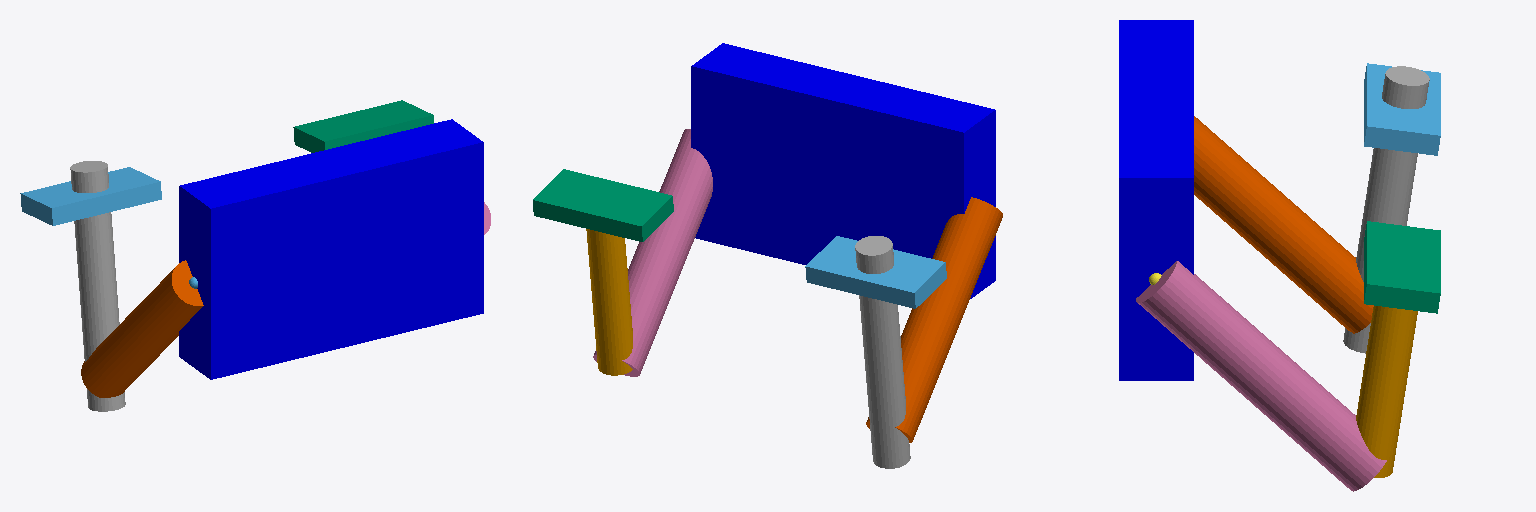
URDF robot description (pair_of_arms):
<?xml version="1.0"?>

<robot name="pair_of_arms">

    <link name="base_link">
    <inertial>
        <origin xyz="0 0 0" rpy="0 0 0"/>
        <mass value="10.0"/>
        <inertia ixx="1" iyy="1" izz="1" ixy="0" ixz="0" iyz="0"/>
    </inertial>
    <visual>
        <origin xyz="0 0 0" rpy="0 0 0"/>
        <geometry>
        <box size="0.5 0.1 0.3"/>
        </geometry>
        <material name="blue">
        <color rgba="0 0 1 1"/>
        </material>
    </visual>
    <collision>
        <origin xyz="0 0 0" rpy="0 0 0"/>
        <geometry>
        <box size="0.5 0.1 0.3"/>
        </geometry>
    </collision>
    </link>



<!-- shoulder 0-mass links to turn 3 revolute into a spherical -->
    <link name="left_shoulder_pitch_link">
        <inertial>
            <origin xyz="0 0 0" rpy="0 0 0"/>
            <mass value="0.001"/>
            <inertia ixx="0.0001" iyy="0.0001" izz="0.0001" ixy="0" ixz="0" iyz="0"/>
        </inertial>
        <visual>
            <origin xyz="0 0 0" rpy="0 0 0"/>
            <geometry>
                <sphere radius="0.01"/>
            </geometry>
        </visual>
        <collision>
            <origin xyz="0 0 0" rpy="0 0 0"/>
            <geometry>
                <sphere radius="0.01"/>
            </geometry>
        </collision>
    </link>

    <!-- Left Shoulder Roll Link -->
    <link name="left_shoulder_roll_link">
        <inertial>
            <origin xyz="0 0 0" rpy="0 0 0"/>
            <mass value="0.001"/>
            <inertia ixx="0.0001" iyy="0.0001" izz="0.0001" ixy="0" ixz="0" iyz="0"/>
        </inertial>
        <visual>
            <origin xyz="0 0 0" rpy="0 0 0"/>
            <geometry>
                <sphere radius="0.01"/>
            </geometry>
        </visual>
        <collision>
            <origin xyz="0 0 0" rpy="0 0 0"/>
            <geometry>
                <sphere radius="0.01"/>
            </geometry>
        </collision>
    </link>

    <!-- Right Shoulder Pitch Link -->
    <link name="right_shoulder_pitch_link">
        <inertial>
            <origin xyz="0 0 0" rpy="0 0 0"/>
            <mass value="0.001"/>
            <inertia ixx="0.0001" iyy="0.0001" izz="0.0001" ixy="0" ixz="0" iyz="0"/>
        </inertial>
        <visual>
            <origin xyz="0 0 0" rpy="0 0 0"/>
            <geometry>
                <sphere radius="0.01"/>
            </geometry>
        </visual>
        <collision>
            <origin xyz="0 0 0" rpy="0 0 0"/>
            <geometry>
                <sphere radius="0.01"/>
            </geometry>
        </collision>
    </link>

    <!-- Right Shoulder Roll Link -->
    <link name="right_shoulder_roll_link">
        <inertial>
            <origin xyz="0 0 0" rpy="0 0 0"/>
            <mass value="0.001"/>
            <inertia ixx="0.0001" iyy="0.0001" izz="0.0001" ixy="0" ixz="0" iyz="0"/>
        </inertial>
        <visual>
            <origin xyz="0 0 0" rpy="0 0 0"/>
            <geometry>
                <sphere radius="0.01"/>
            </geometry>
        </visual>
        <collision>
            <origin xyz="0 0 0" rpy="0 0 0"/>
            <geometry>
                <sphere radius="0.01"/>
            </geometry>
        </collision>
    </link>







    <!-- Left Shoulder Yaw (existing joint) -->
    <joint name="left_shoulder_yaw" type="revolute">
        <parent link="base_link"/>
        <child link="left_shoulder_pitch_link"/> <!-- Intermediate link for pitch joint -->
        <origin xyz="-0.25 0 0" rpy="0.8 0 0"/>
        <axis xyz="0 0 1"/>
        <limit lower="-3.14" upper="3.14" effort="100.0" velocity="0.5"/>
    </joint>

    <!-- Left Shoulder Pitch -->
    <joint name="left_shoulder_pitch" type="revolute">
        <parent link="left_shoulder_pitch_link"/>
        <child link="left_shoulder_roll_link"/> <!-- Intermediate link for roll joint -->
        <origin xyz="0 0 0" rpy="0 0 0"/>
        <axis xyz="0 1 0"/>
        <limit lower="-1.57" upper="1.57" effort="100.0" velocity="0.5"/>
    </joint>

    <!-- Left Shoulder Roll -->
    <joint name="left_shoulder_roll" type="revolute">
        <parent link="left_shoulder_roll_link"/>
        <child link="left_upper_arm"/>
        <origin xyz="0 0 0" rpy="0 0 0"/>
        <axis xyz="1 0 0"/>
        <limit lower="-3.14" upper="3.14" effort="100.0" velocity="0.5"/>
    </joint>

    <!-- Right Shoulder Yaw (existing joint) -->
    <joint name="right_shoulder_yaw" type="revolute">
        <parent link="base_link"/>
        <child link="right_shoulder_pitch_link"/> <!-- Intermediate link for pitch joint -->
        <origin xyz="0.25 0 0" rpy="0.8 0 0"/>
        <axis xyz="0 0 1"/>
        <limit lower="-3.14" upper="3.14" effort="100.0" velocity="0.5"/>
    </joint>

    <!-- Right Shoulder Pitch -->
    <joint name="right_shoulder_pitch" type="revolute">
        <parent link="right_shoulder_pitch_link"/>
        <child link="right_shoulder_roll_link"/> <!-- Intermediate link for roll joint -->
        <origin xyz="0 0 0" rpy="0 0 0"/>
        <axis xyz="0 1 0"/>
        <limit lower="-1.57" upper="1.57" effort="100.0" velocity="0.5"/>
    </joint>

    <!-- Right Shoulder Roll -->
    <joint name="right_shoulder_roll" type="revolute">
        <parent link="right_shoulder_roll_link"/>
        <child link="right_upper_arm"/>
        <origin xyz="0 0 0" rpy="0 0 0"/>
        <axis xyz="1 0 0"/>
        <limit lower="-3.14" upper="3.14" effort="100.0" velocity="0.5"/>
    </joint>


    <!-- Left Upper Arm -->
    <link name="left_upper_arm">
        <inertial>
            <origin xyz="0 0 -0.2" rpy="0 0 0"/> <!-- Offset to center the cylinder along the Z-axis -->
            <mass value="2.0"/>
            <inertia ixx="0.02" iyy="0.02" izz="0.02" ixy="0" ixz="0" iyz="0"/>
        </inertial>
        <visual>
            <origin xyz="0 0 -0.2" rpy="0 0 0"/>
            <geometry>
                <cylinder radius="0.04" length="0.4"/>
            </geometry>
        </visual>
        <collision>
            <origin xyz="0 0 -0.2" rpy="0 0 0"/>
            <geometry>
                <cylinder radius="0.04" length="0.4"/>
            </geometry>
        </collision>
    </link>

    <!-- Right Upper Arm -->
    <link name="right_upper_arm">
        <inertial>
            <origin xyz="0 0 -0.2" rpy="0 0 0"/> <!-- Offset to center the cylinder along the Z-axis -->
            <mass value="2.0"/>
            <inertia ixx="0.02" iyy="0.02" izz="0.02" ixy="0" ixz="0" iyz="0"/>
        </inertial>
        <visual>
            <origin xyz="0 0 -0.2" rpy="0 0 0"/>
            <geometry>
                <cylinder radius="0.04" length="0.4"/>
            </geometry>
        </visual>
        <collision>
            <origin xyz="0 0 -0.2" rpy="0 0 0"/>
            <geometry>
                <cylinder radius="0.04" length="0.4"/>
            </geometry>
        </collision>
    </link>


    <!-- Left Elbow Joint -->
    <joint name="left_elbow_joint" type="revolute">
    <parent link="left_upper_arm"/>
    <child link="left_forearm"/> <!-- Forearm link defined in subsequent steps -->
    <origin xyz="0 0 -0.4" rpy="2.2 0 0"/> <!-- At the end of the upper arm -->
    <axis xyz="0 1 0"/> <!-- Rotate around the Y-axis -->
    <limit lower="0" upper="3.14" effort="100.0" velocity="1.0"/>
    </joint>

    <!-- Right Elbow Joint -->
    <!-- Duplicate of left_elbow_joint with names and references adjusted for the right arm -->
    <joint name="right_elbow_joint" type="revolute">
    <parent link="right_upper_arm"/>
    <child link="right_forearm"/> <!-- Forearm link defined in subsequent steps -->
    <origin xyz="0 0 -0.4" rpy="2.2 0 0"/> <!-- At the end of the upper arm -->
    <axis xyz="0 1 0"/> <!-- Rotate around the Y-axis -->
    <limit lower="0" upper="3.14" effort="100.0" velocity="1.0"/>
    </joint>

    <!-- Left Forearm Link -->
    <link name="left_forearm">
    <inertial>
        <origin xyz="0 0 -0.15" rpy="0 0 0"/>
        <mass value="1.5"/>
        <inertia ixx="0.015" iyy="0.015" izz="0.015" ixy="0" ixz="0" iyz="0"/>
    </inertial>
    <visual>
        <origin xyz="0 0 -0.15" rpy="0 0 0"/>
        <geometry>
        <cylinder radius="0.03" length="0.4"/>
        </geometry>
    </visual>
    <collision>
        <origin xyz="0 0 -0.15" rpy="0 0 0"/>
        <geometry>
        <cylinder radius="0.03" length="0.4"/>
        </geometry>
    </collision>
    </link>

    <!-- Right Forearm Link -->
    <!-- Similar to left_forearm but mirrored for the right side -->
    <link name="right_forearm">
    <inertial>
        <origin xyz="0 0 -0.15" rpy="0 0 0"/>
        <mass value="1.5"/>
        <inertia ixx="0.015" iyy="0.015" izz="0.015" ixy="0" ixz="0" iyz="0"/>
    </inertial>
    <visual>
        <origin xyz="0 0 -0.15" rpy="0 0 0"/>
        <geometry>
        <cylinder radius="0.03" length="0.3"/>
        </geometry>
    </visual>
    <collision>
        <origin xyz="0 0 -0.15" rpy="0 0 0"/>
        <geometry>
        <cylinder radius="0.03" length="0.3"/>
        </geometry>
    </collision>
    </link>


    <!-- Left Wrist Joint -->
    <joint name="left_wrist_joint" type="continuous">
    <parent link="left_forearm"/>
    <child link="left_hand"/> <!-- Hand link defined in the next step -->
    <origin xyz="0 0 -0.3" rpy="0 0 0"/> <!-- At the end of the forearm -->
    <axis xyz="0 0 1"/> <!-- Rotate around the Z-axis -->
    </joint>

    <!-- Right Wrist Joint -->
    <!-- Similar to left_wrist_joint but for the right forearm to right hand connection -->
    <joint name="right_wrist_joint" type="continuous">
    <parent link="right_forearm"/>
    <child link="right_hand"/> <!-- Hand link defined in the next step -->
    <origin xyz="0 0 -0.3" rpy="0 0 0"/> <!-- At the end of the forearm -->
    <axis xyz="0 0 1"/> <!-- Rotate around the Z-axis -->
    </joint>


    <!-- Left Hand Link -->
    <link name="left_hand">
    <inertial>
        <origin xyz="0 0 0" rpy="0 0 0"/>
        <mass value="0.5"/>
        <inertia ixx="0.005" iyy="0.005" izz="0.005" ixy="0" ixz="0" iyz="0"/>
    </inertial>
    <visual>
        <origin xyz="0 0 0" rpy="0 0 0"/>
        <geometry>
        <box size="0.2 0.1 0.03"/>
        </geometry>
    </visual>
    <collision>
        <origin xyz="0 0 0" rpy="0 0 0"/>
        <geometry>
        <box size="0.2 0.1 0.03"/>
        </geometry>
    </collision>
    </link>

    <!-- Right Hand Link -->
    <!-- Similar to left_hand but mirrored for the right side -->
    <link name="right_hand">
    <inertial>
        <origin xyz="0 0 0" rpy="0 0 0"/>
        <mass value="0.5"/>
        <inertia ixx="0.005" iyy="0.005" izz="0.005" ixy="0" ixz="0" iyz="0"/>
    </inertial>
    <visual>
        <origin xyz="0 0 0" rpy="0 0 0"/>
        <geometry>
        <box size="0.2 0.1 0.03"/>
        </geometry>
    </visual>
    <collision>
        <origin xyz="0 0 0" rpy="0 0 0"/>
        <geometry>
        <box size="0.2 0.1 0.03"/>
        </geometry>
    </collision>
    </link>

</robot>

--- Facts derived from the render (not from the file) ---
The picture shows the robot from 3 angles, left to right: view 1: azimuth 30°, elevation 25°; view 2: azimuth 150°, elevation 25°; view 3: azimuth 270°, elevation 25°; orthographic projection.
Robot: pair_of_arms — 11 links, 10 joints (8 revolute, 2 continuous); root link base_link; default pose: every joint at zero.
Links seen in each view (by area): view 1: base_link, left_upper_arm, left_forearm, left_hand, right_hand; view 2: base_link, left_upper_arm, right_upper_arm, left_forearm, right_hand, left_hand, right_forearm; view 3: base_link, right_upper_arm, left_upper_arm, right_forearm, right_hand, left_forearm, left_hand.
Link boxes in pixels (<box>): base_link: <box>179,119,483,379</box>; left_upper_arm: <box>81,260,203,397</box>; left_forearm: <box>70,161,125,411</box>; left_hand: <box>20,167,161,225</box>; right_hand: <box>293,100,433,152</box>; base_link: <box>691,43,995,298</box>; left_upper_arm: <box>866,197,1002,442</box>; right_upper_arm: <box>593,129,712,376</box>; left_forearm: <box>855,236,910,468</box>; right_hand: <box>533,169,673,241</box>; left_hand: <box>805,236,946,308</box>; right_forearm: <box>586,229,632,375</box>; base_link: <box>1119,20,1193,380</box>; right_upper_arm: <box>1136,261,1386,491</box>; left_upper_arm: <box>1194,116,1373,333</box>; right_forearm: <box>1356,306,1417,477</box>; right_hand: <box>1364,221,1440,313</box>; left_forearm: <box>1343,66,1429,353</box>; left_hand: <box>1364,63,1440,155</box>.
Bounding box of the posed robot: 0.7 × 0.4309 × 0.4824 m (x, y, z).
Geometry: primitives only (box / cylinder / sphere), no mesh files.